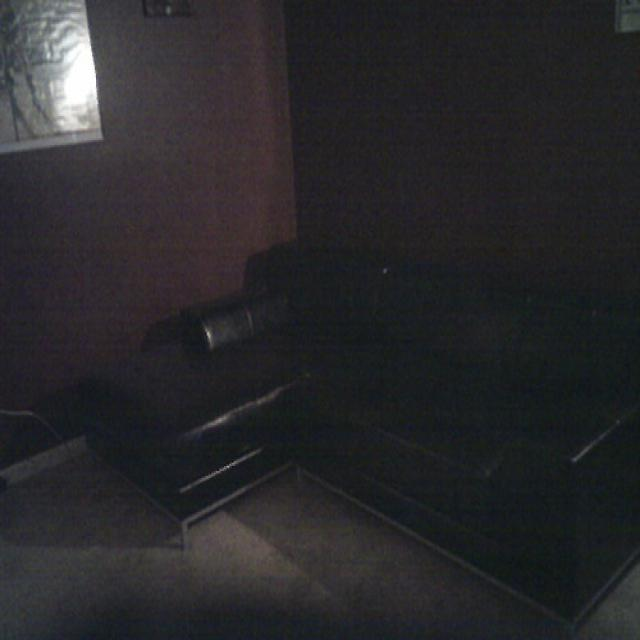chair: (58, 246, 640, 615)
